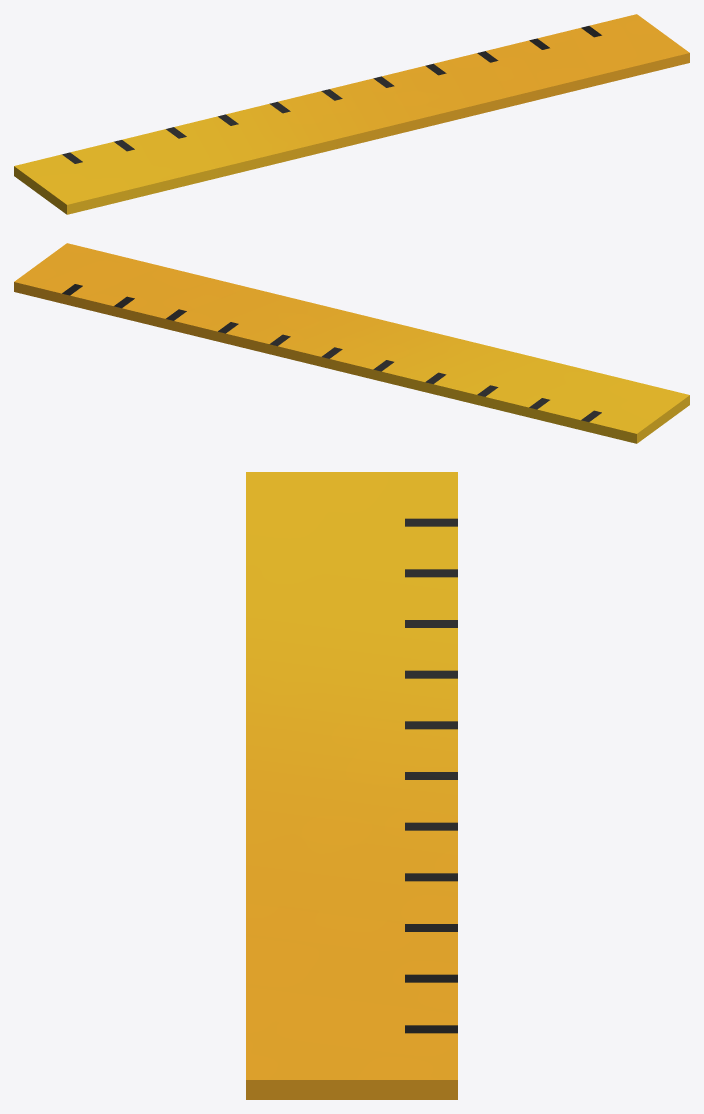
Rendered from règle.fbx.
3 renders of one model, top to bottom at view 1: azimuth 30°, elevation 25°; view 2: azimuth 150°, elevation 25°; view 3: azimuth 270°, elevation 25°, orthographic. The views are drawn at different scales.
Visible parts, largest first — view 1: regle; view 2: regle; view 3: regle.
Part boxes in pixels (<box>): regle: <box>14,14,689,214</box>; regle: <box>14,243,689,443</box>; regle: <box>246,472,457,1099</box>.
Bounding box in the file's own units: 32 × 4.72 × 0.4895.
